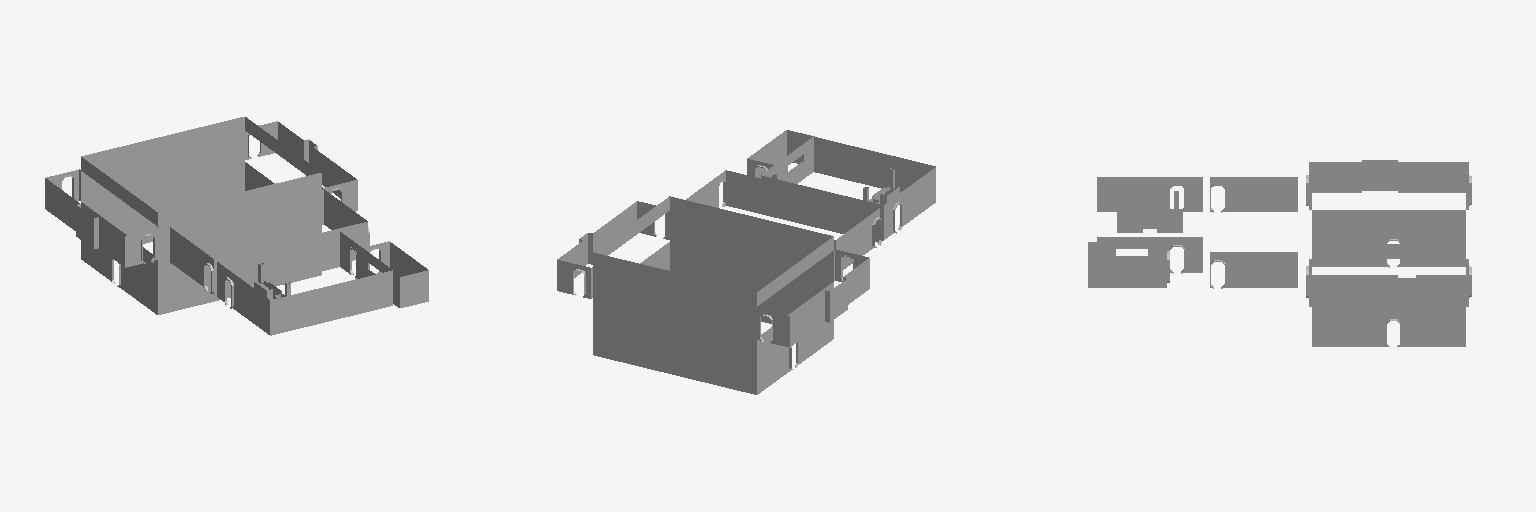
File: Walls 2.obj
The picture shows the model from 3 angles: view 1: azimuth 30°, elevation 25°; view 2: azimuth 150°, elevation 25°; view 3: azimuth 270°, elevation 25°; orthographic projection.
Visible parts, largest first — view 1: Wall_Hallway_3_(Cargo_Hold)_Plane.037, Wall_Room_1.025_Plane.018, Wall_Room_1.029_Plane.033, Cafe_Island_Cube.020; view 2: Wall_Hallway_3_(Cargo_Hold)_Plane.037, Wall_Room_1.025_Plane.018, Wall_Room_1.029_Plane.033, Cafe_Island_Cube.020; view 3: Wall_Hallway_3_(Cargo_Hold)_Plane.037, Wall_Room_1.025_Plane.018, Wall_Room_1.029_Plane.033, Cafe_Island_Cube.020.
Boxes of the visible parts, x1,y1,x2,y2 form: Wall_Hallway_3_(Cargo_Hold)_Plane.037: [45, 117, 357, 314]; Wall_Room_1.025_Plane.018: [217, 232, 428, 335]; Wall_Room_1.029_Plane.033: [170, 189, 369, 293]; Cafe_Island_Cube.020: [254, 263, 290, 299]; Wall_Hallway_3_(Cargo_Hold)_Plane.037: [557, 196, 869, 394]; Wall_Room_1.025_Plane.018: [747, 130, 935, 240]; Wall_Room_1.029_Plane.033: [686, 170, 881, 269]; Cafe_Island_Cube.020: [863, 168, 899, 204]; Wall_Hallway_3_(Cargo_Hold)_Plane.037: [1306, 160, 1471, 346]; Wall_Room_1.025_Plane.018: [1088, 177, 1202, 287]; Wall_Room_1.029_Plane.033: [1210, 177, 1297, 288]; Cafe_Island_Cube.020: [1117, 191, 1182, 232].
Bounding box in the file's own units: 18.87 × 7.7 × 25.93.